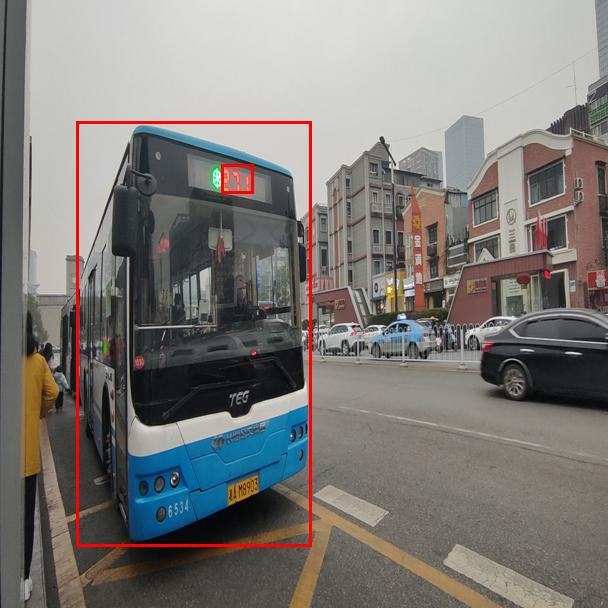bus: (76, 121, 311, 546)
screen: (221, 164, 253, 193)
